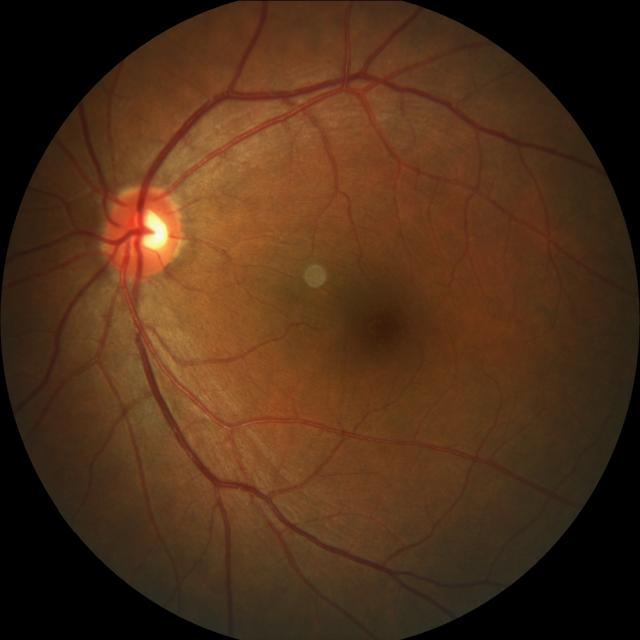OC: (128, 210, 168, 252)
OD: (104, 185, 186, 278)
